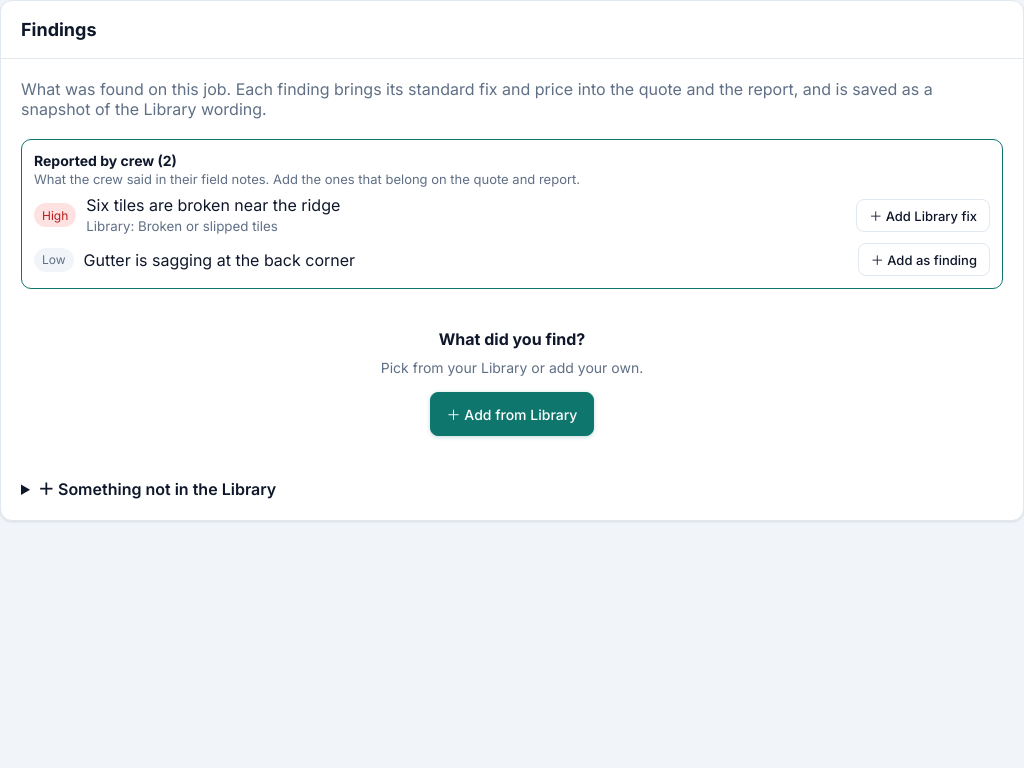
Test case: FindingsPanel — Reported by crew › adding each issue creates a numbered finding and flips its row to Added
The width and height of the screenshot is (1024, 768).
Click the button "＋ Add Library fix": point(923, 215) [856,198,990,232]
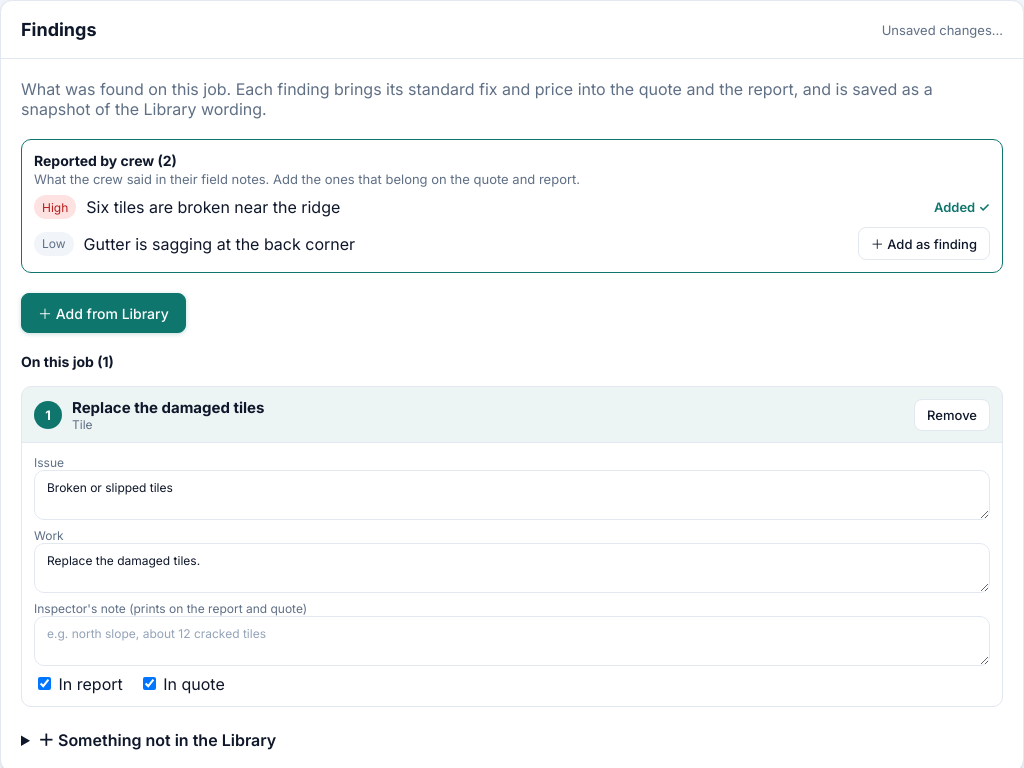
Now the element named "Finding 1" is shown, box [21,386,1003,707]
Now the heading "On this job (1)" is shown, box [21,353,114,370]
Now the text "Added ✓" is shown once, box [934,199,990,215]
Click the button "＋ Add as finding": point(924, 244) [858,227,990,260]
(page scrolled)
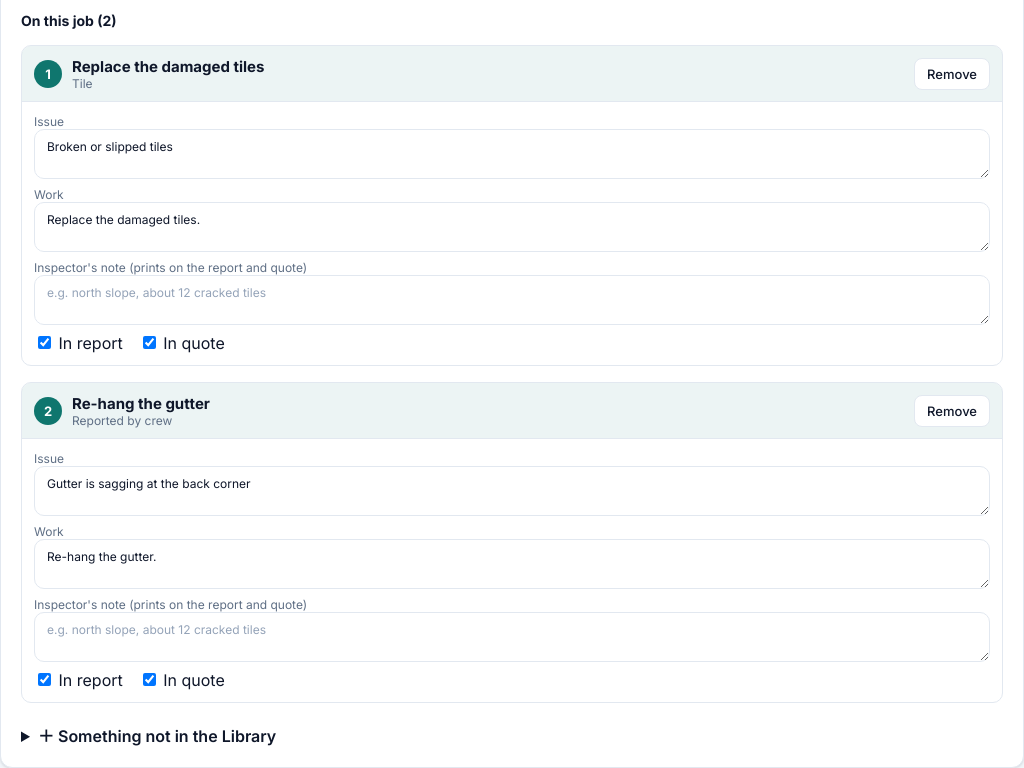
Now the element named "Finding 2" is shown, box [21,382,1003,703]
Now the text box named "Finding problem" holds "Gutter is sagging at the back corner", box [34,466,990,516]
Now the text box named "Finding solution" holds "Re-hang the gutter.", box [34,539,990,589]
